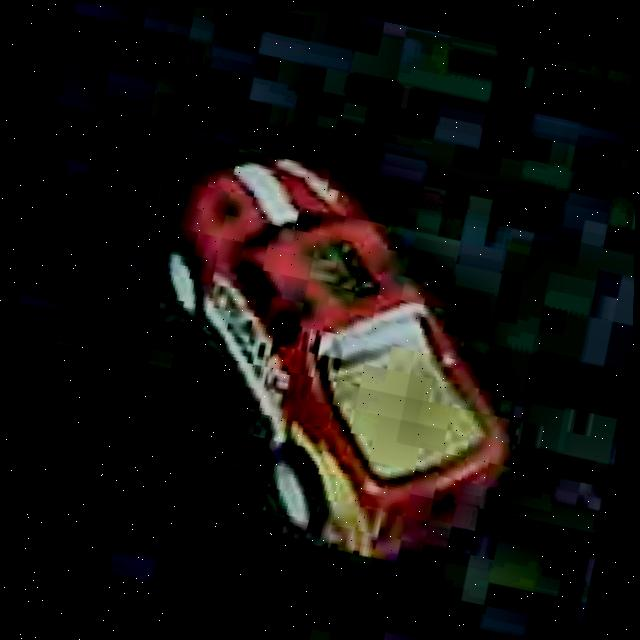car: (101, 121, 566, 600)
